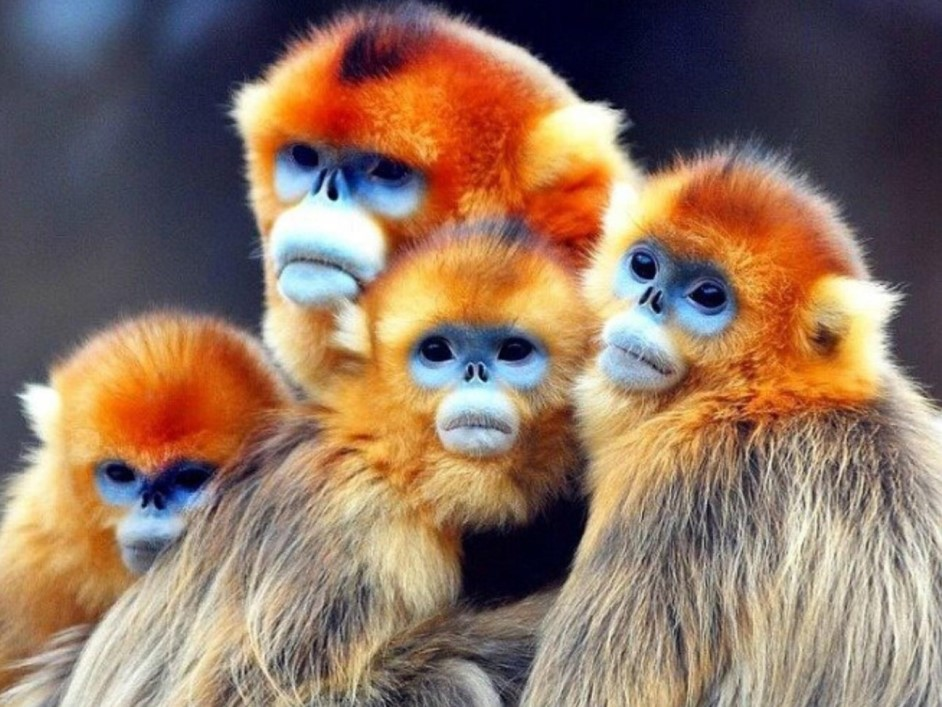GoldenSnub-Nosed: (588, 177, 892, 696), (230, 29, 608, 315), (373, 242, 601, 596), (43, 333, 273, 564)
